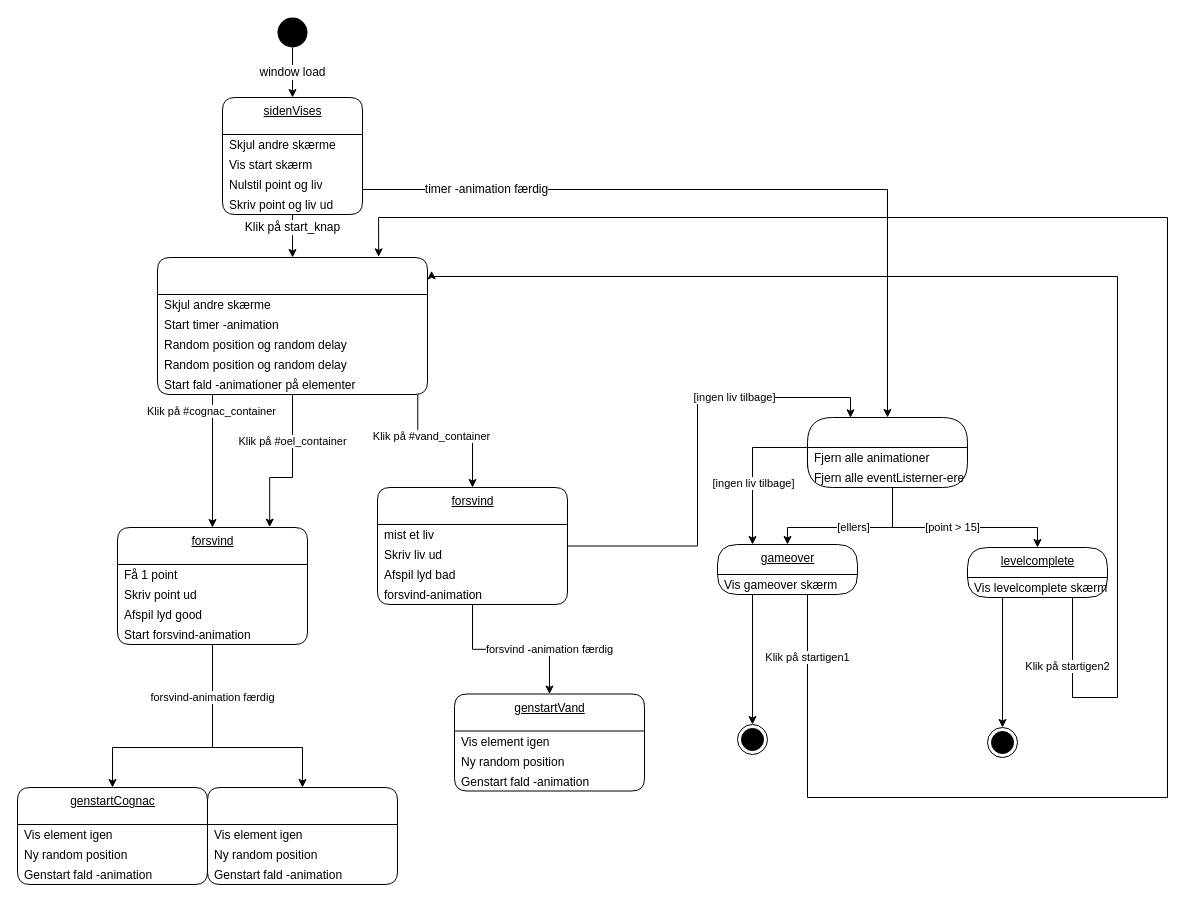
This 1193x902 diagram has some shape labels left out. Each missing label, with the box of its shape:
genstartOel: (206, 786, 398, 884)
spilStarter: (156, 256, 428, 394)
stopSpillet: (806, 416, 968, 488)
